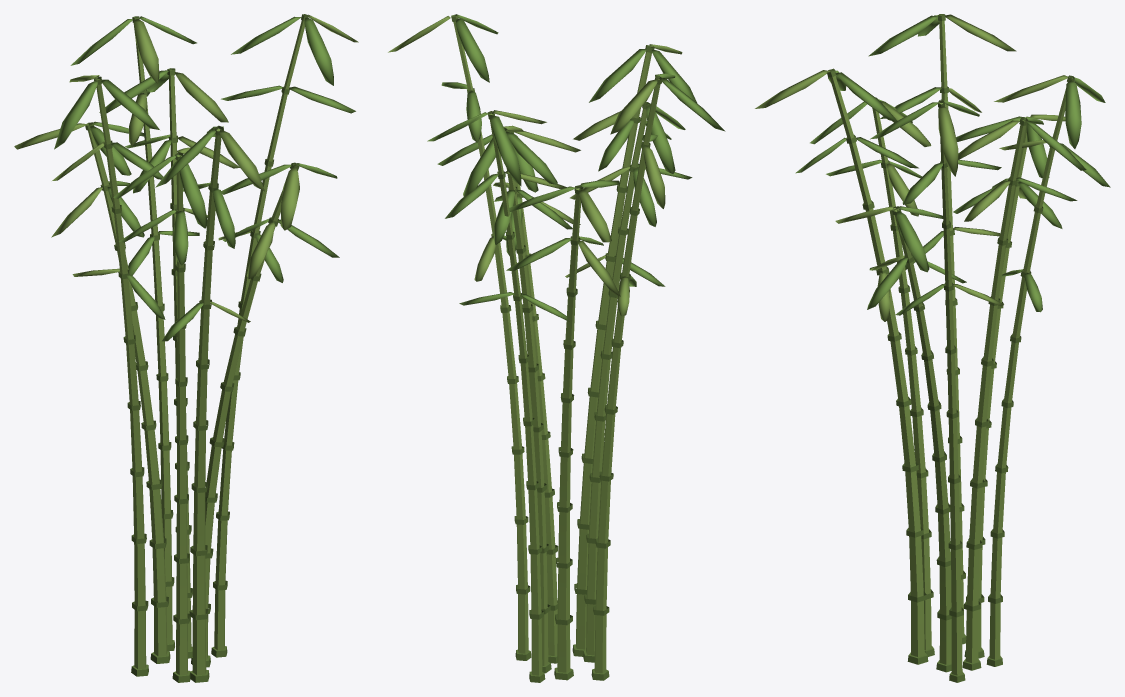
File: bamboo_clump.glb
3 views of the same model, side by side, from view 1: azimuth 30°, elevation 25°; view 2: azimuth 150°, elevation 25°; view 3: azimuth 270°, elevation 25° (orthographic).
Parts seen in each view (by area): view 1: stalks, leaves; view 2: stalks, leaves; view 3: stalks, leaves.
Boxes of the visible parts, x1,y1,x2,y2 form: stalks: [85, 14, 308, 682]; leaves: [14, 14, 358, 341]; stalks: [451, 14, 662, 682]; leaves: [388, 14, 725, 321]; stalks: [827, 14, 1074, 682]; leaves: [755, 14, 1110, 321].
Size of what is drawn, in the model's own units: 2.72 by 5.03 by 2.64.
